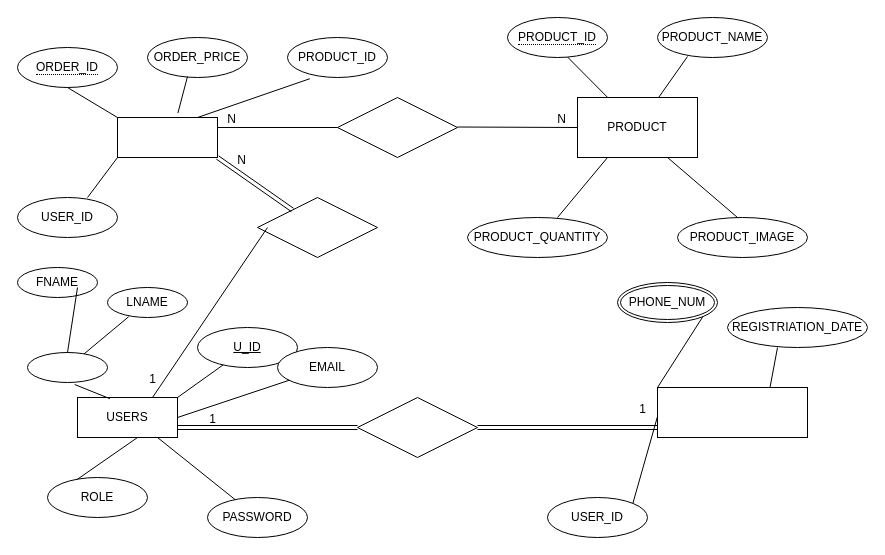
Image size: 885x555. Some labels were removed from this diagram. The shapes that lost their labels are listed below. From the top down, each one's centre as x and y in pixels, then its label:
At pixel 167 137: "ORDER".
At pixel 397 127: "CONTAINS".
At pixel 317 227: "HAS".
At pixel 67 367: "NAME".
At pixel 417 427: "HAS A".
At pixel 732 412: "CUSTOMER_DETALIES".
